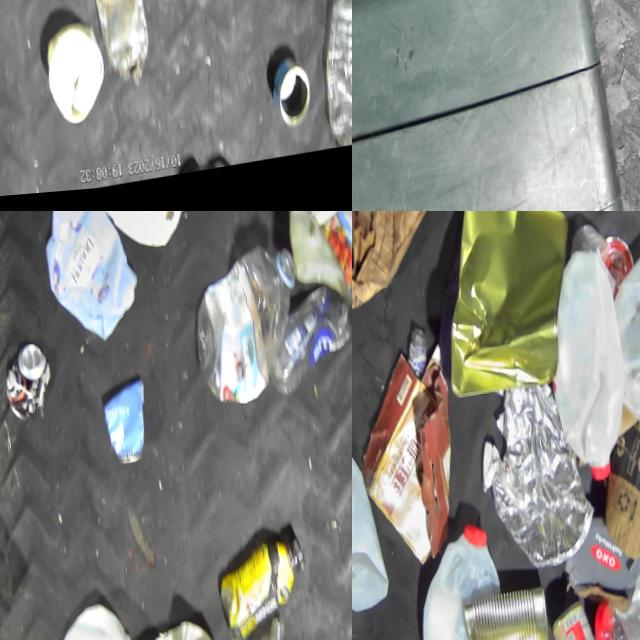can: (100, 380, 151, 473), (460, 587, 549, 640), (0, 342, 52, 425), (266, 62, 311, 140), (547, 601, 598, 640)
milk_jug: (539, 248, 632, 494), (408, 523, 506, 640), (603, 220, 640, 434), (352, 432, 388, 618), (88, 211, 193, 263), (41, 599, 142, 640)
non_white_jug: (36, 211, 140, 350)
plastic_bottle: (185, 245, 308, 416), (260, 285, 352, 406), (311, 0, 352, 159), (590, 605, 640, 640)
